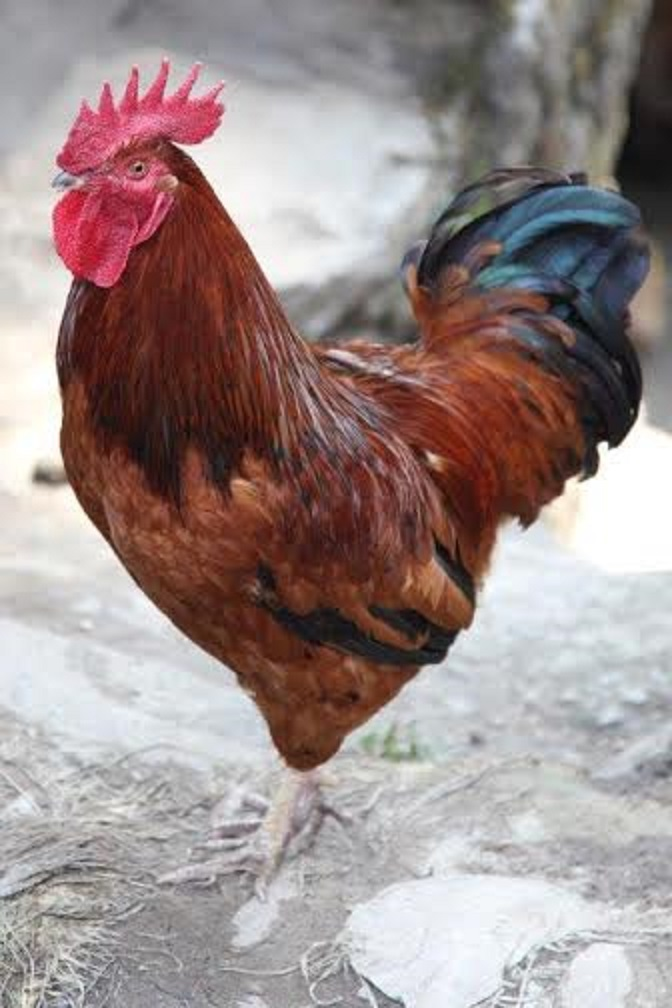Healthy: (49, 48, 648, 833)
